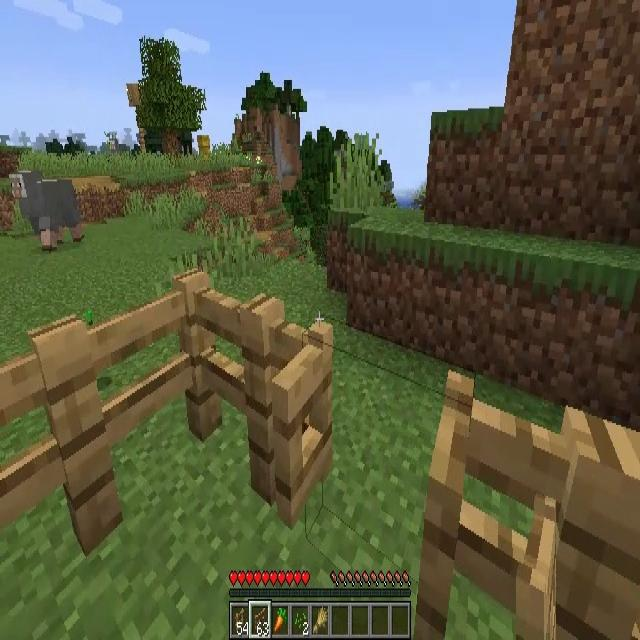sheep: (10, 174, 84, 252)
